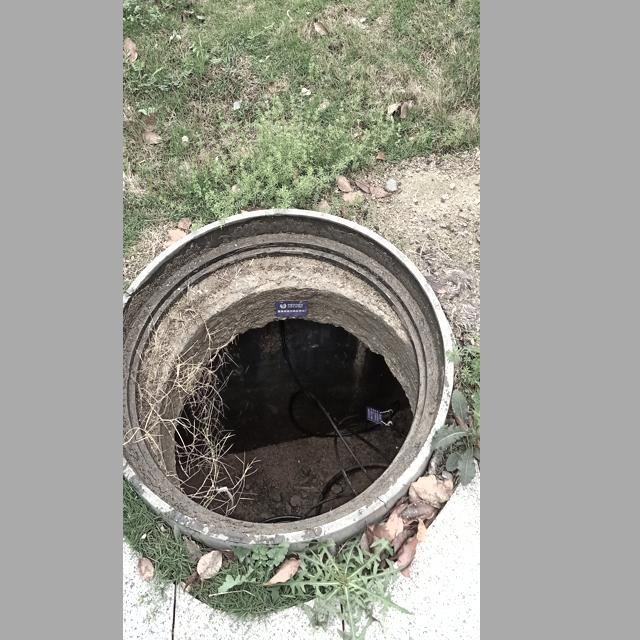lose: (125, 207, 457, 554)
